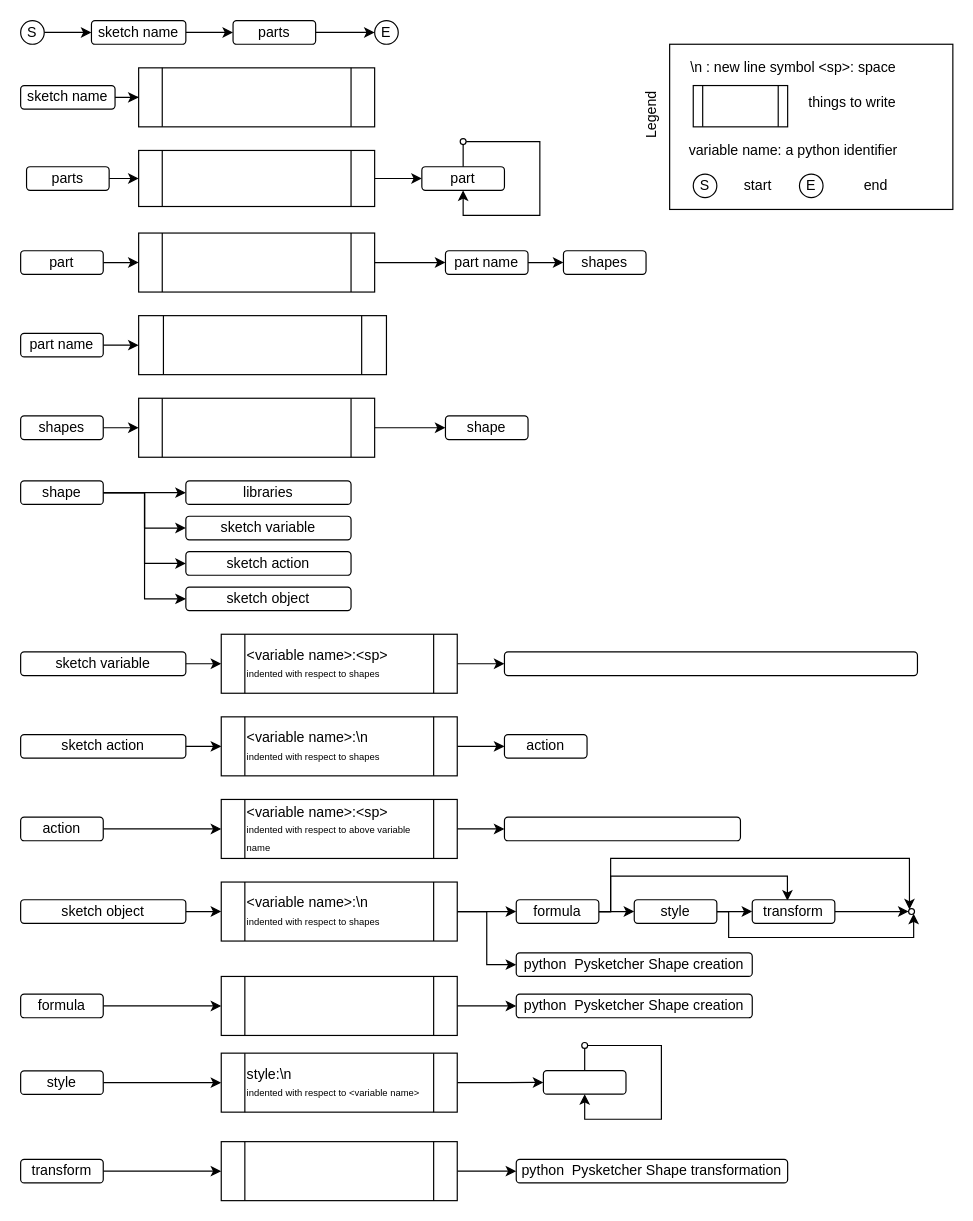
Some shapes in this 973 by 1221 pixel diagram are drawn without their labels. The box of each missing label's shape, as (x1, y1, x2, y2) in pixels:
- <sp> a - indented with respect to parts: (137, 232, 375, 292)
- name: <variable name>\n: (137, 67, 375, 127)
- parts:\n: (137, 149, 375, 206)
formula: <sp> indented with respect to <variable name>: (220, 975, 457, 1035)
name: <sp> <variable name>\n: (137, 314, 386, 375)
python assignable expression (not a Pysketcher Shape creation): (503, 651, 917, 676)
python executable expression: (503, 816, 740, 841)
shapes:\n same indent level as part name: (137, 397, 375, 457)
style prop: (542, 1069, 626, 1094)
transform:<sp> indented with respect to <variable name>: (220, 1140, 457, 1201)
